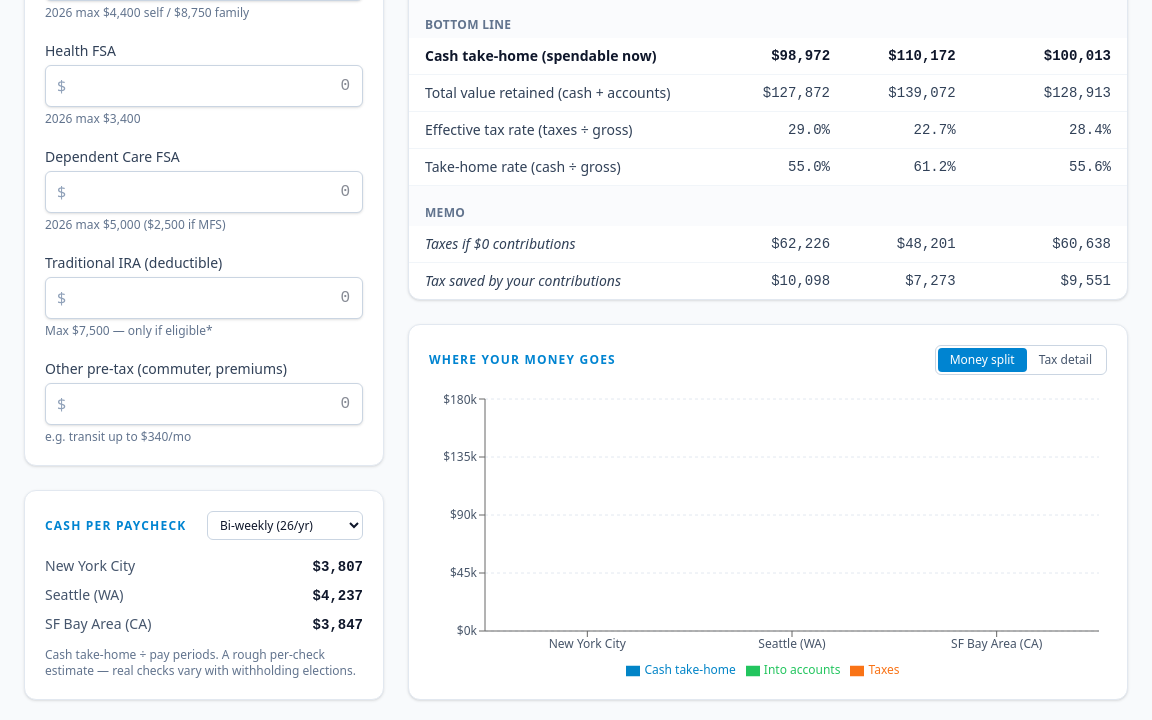
Test case: Phase 4 enhancements (via App) › renders the breakdown chart with a mode toggle
The image size is (1152, 720).
(page scrolled)
expect the heading "Where your money goes" is shown: met, box left=429, top=352, right=616, bottom=368
Step 1. Click the button "Tax detail" → (1065,360), box left=1027, top=348, right=1104, bottom=372
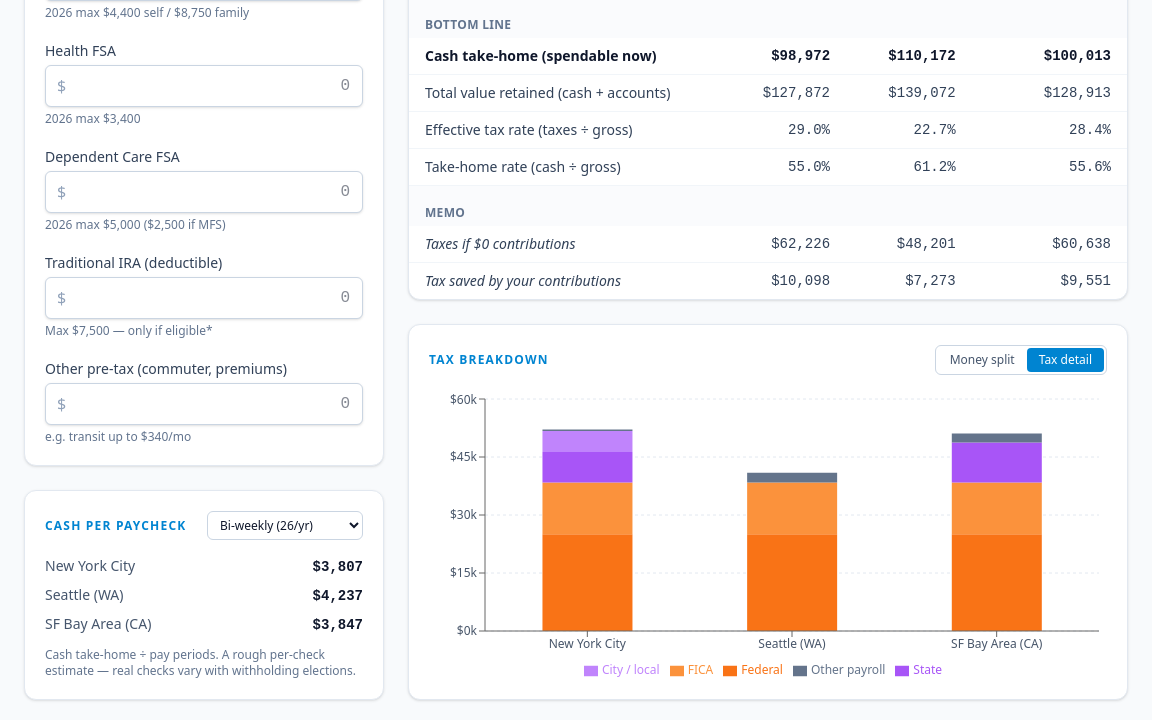
expect the heading "Tax breakdown" is shown: met, box left=429, top=352, right=549, bottom=368
